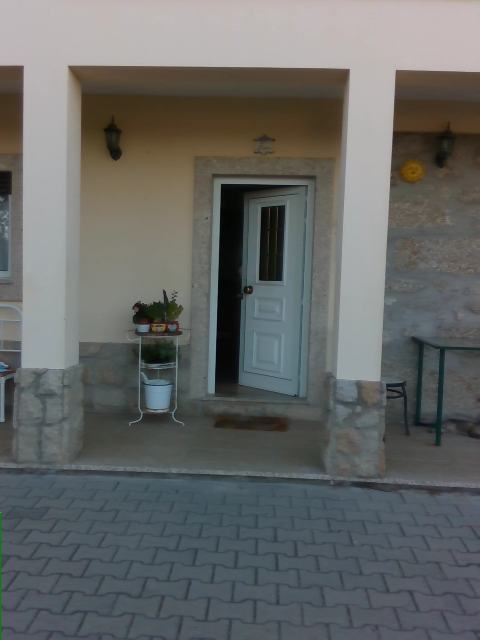semi: (207, 175, 314, 397)
